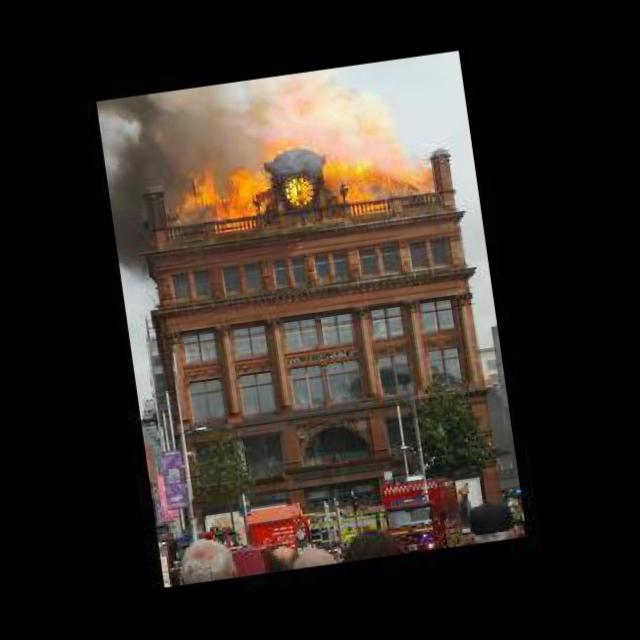fire: (168, 125, 432, 242)
smoke: (100, 92, 189, 285)
